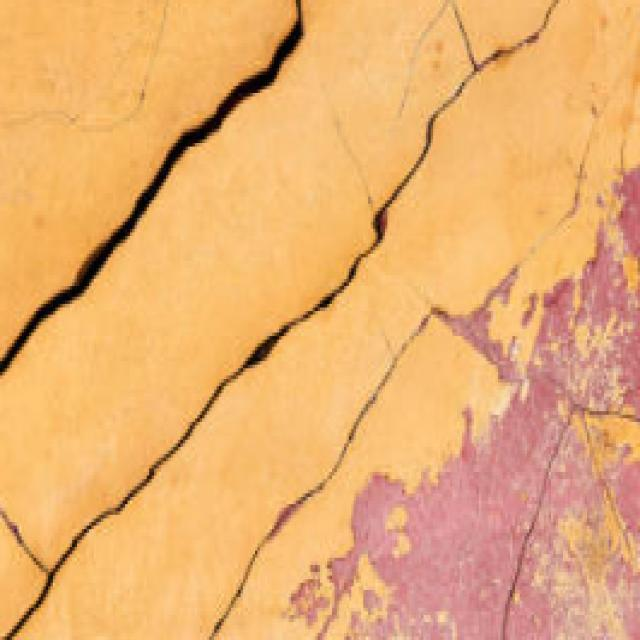branched cracks: (0, 0, 559, 639), (209, 122, 598, 639), (0, 0, 302, 375), (500, 404, 639, 639)
